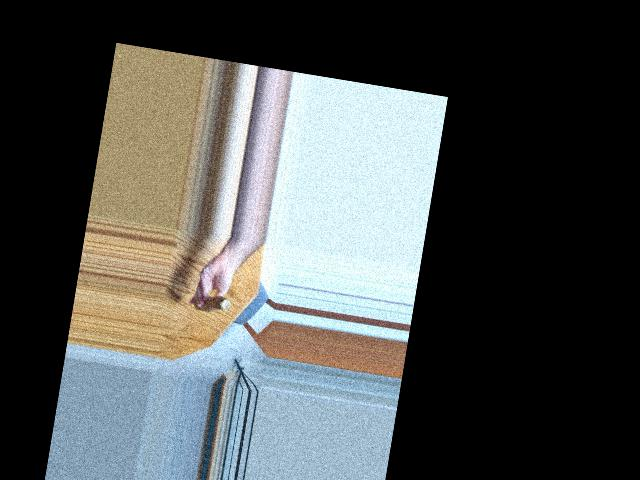sweet_potato: (191, 283, 238, 318)
